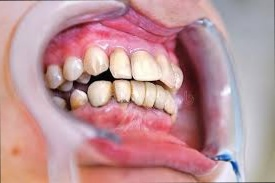Tooth Discoloration: (69, 81, 177, 121)
